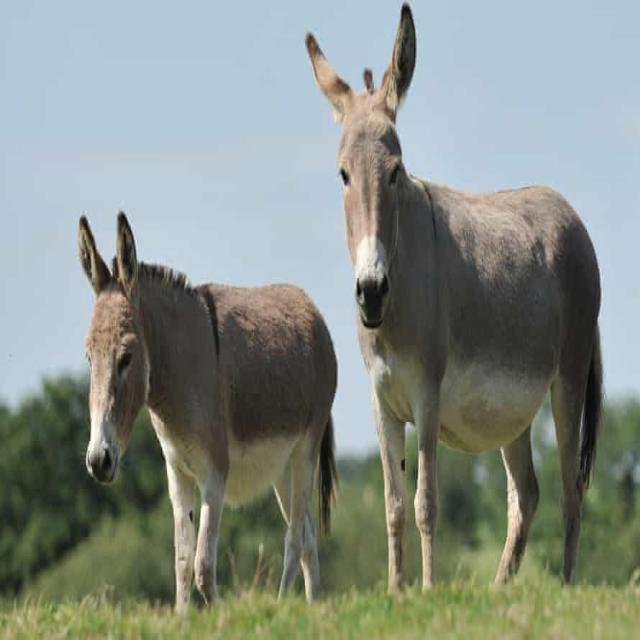donkey: (305, 2, 602, 588), (78, 212, 337, 609)
